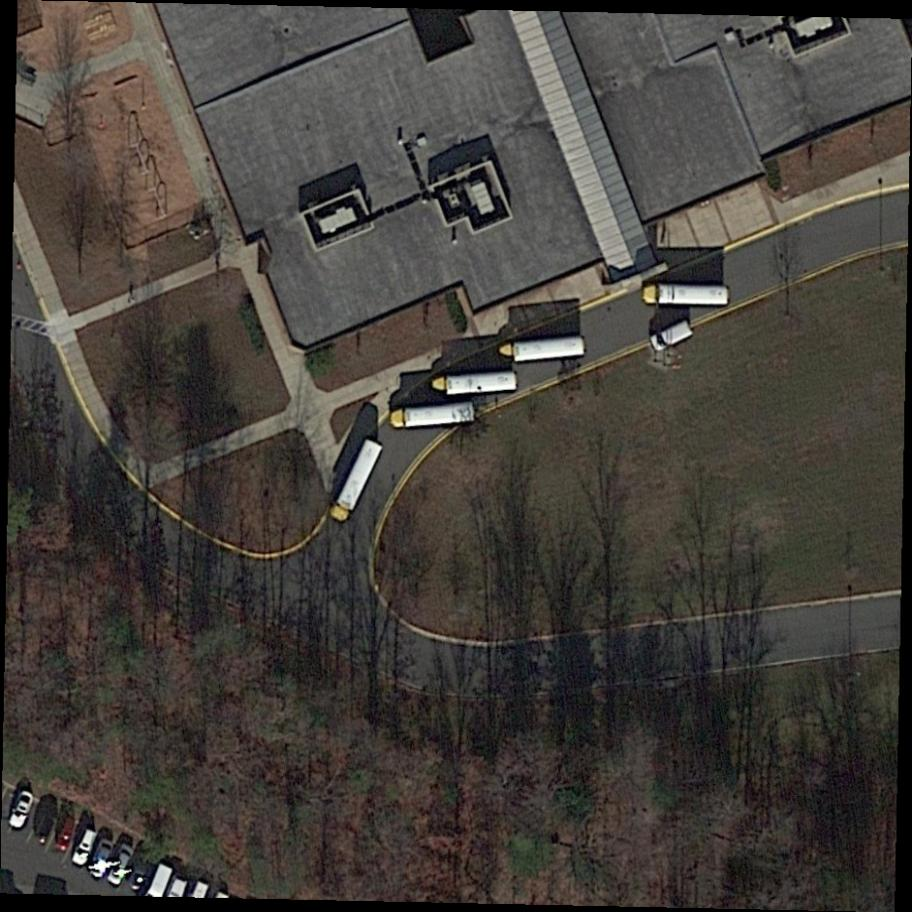large-vehicle: (330, 439, 383, 523), (501, 338, 587, 365), (391, 403, 476, 428), (434, 373, 517, 397), (644, 284, 730, 307)
small-vehicle: (646, 316, 697, 356), (4, 787, 39, 833), (67, 823, 101, 870), (105, 840, 137, 887), (85, 835, 117, 881), (124, 849, 157, 893), (28, 806, 62, 848), (51, 816, 81, 854)
